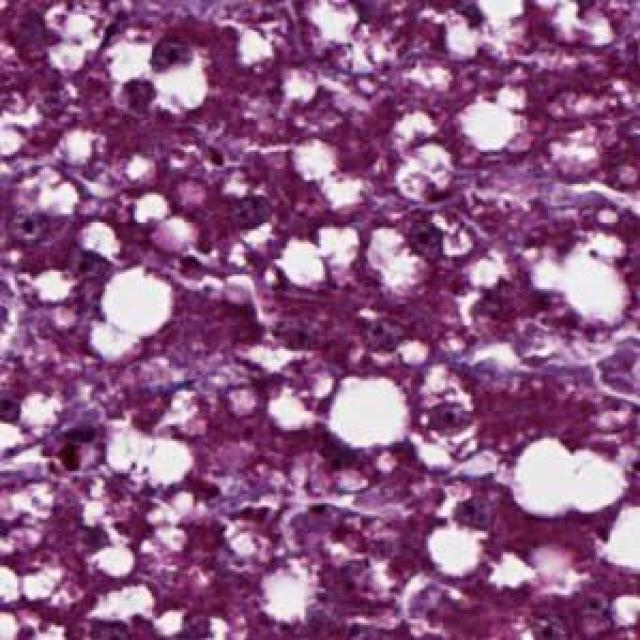steatosis: (330, 370, 411, 452), (98, 267, 172, 334), (450, 98, 522, 152)
